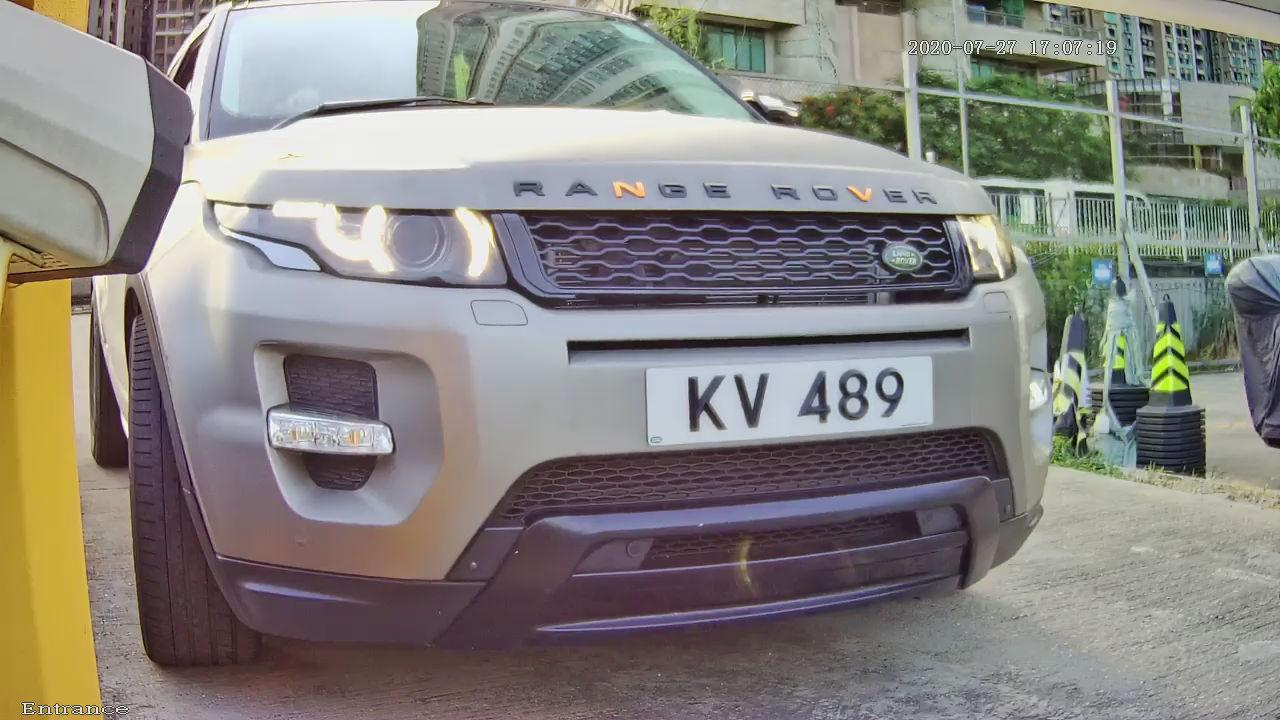privatecar: (121, 26, 1098, 653)
